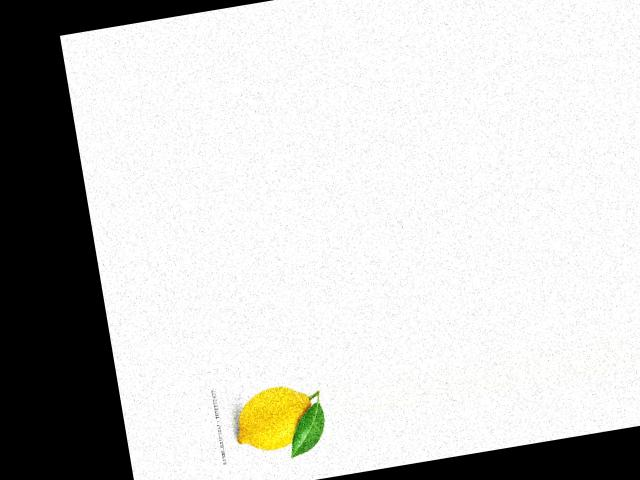lemon: (229, 379, 322, 463)
